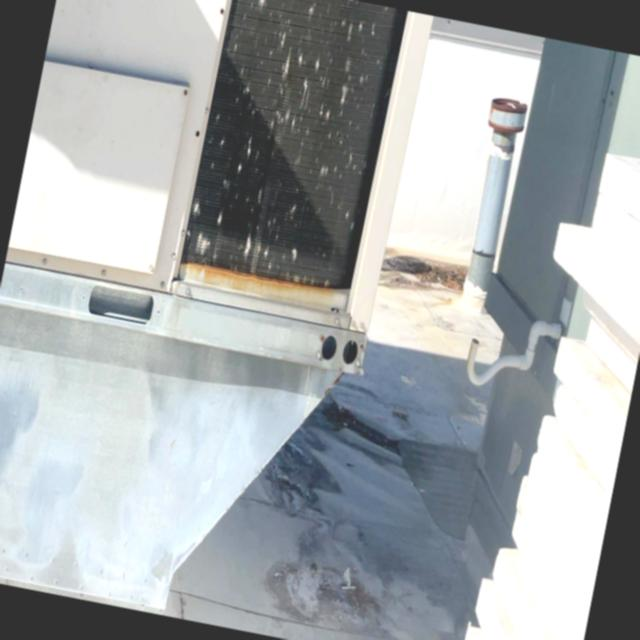GRAVITY-VENT: (442, 78, 544, 322)
RTU: (0, 0, 443, 640)
